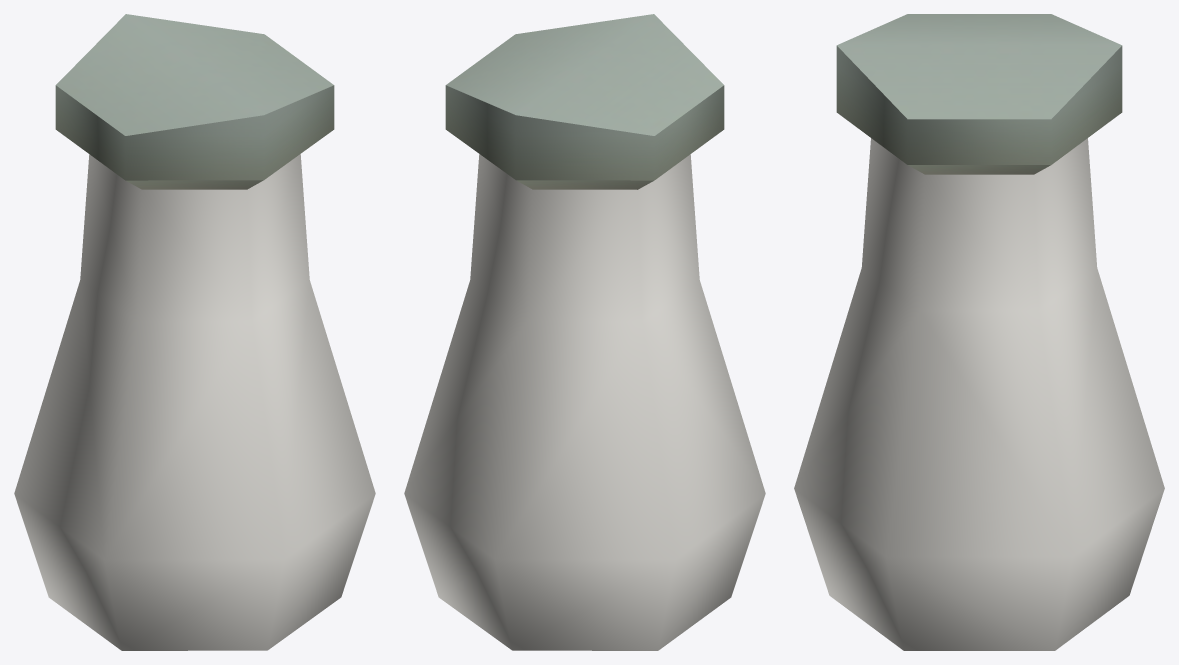
File: SM_Pepper_Shaker_01.fbx
3 renders of one model, left to right at view 1: azimuth 30°, elevation 25°; view 2: azimuth 150°, elevation 25°; view 3: azimuth 270°, elevation 25°, orthographic. The views are drawn at different scales.
Visible parts, largest first — view 1: SM_Pepper_Shaker_01; view 2: SM_Pepper_Shaker_01; view 3: SM_Pepper_Shaker_01.
Boxes of the visible parts, box(x1,y1,x2,y2) form: SM_Pepper_Shaker_01: box(14, 14, 375, 650); SM_Pepper_Shaker_01: box(404, 14, 765, 650); SM_Pepper_Shaker_01: box(794, 14, 1164, 650).
Bounding box in the file's own units: 3.3 × 6.19 × 3.78.
